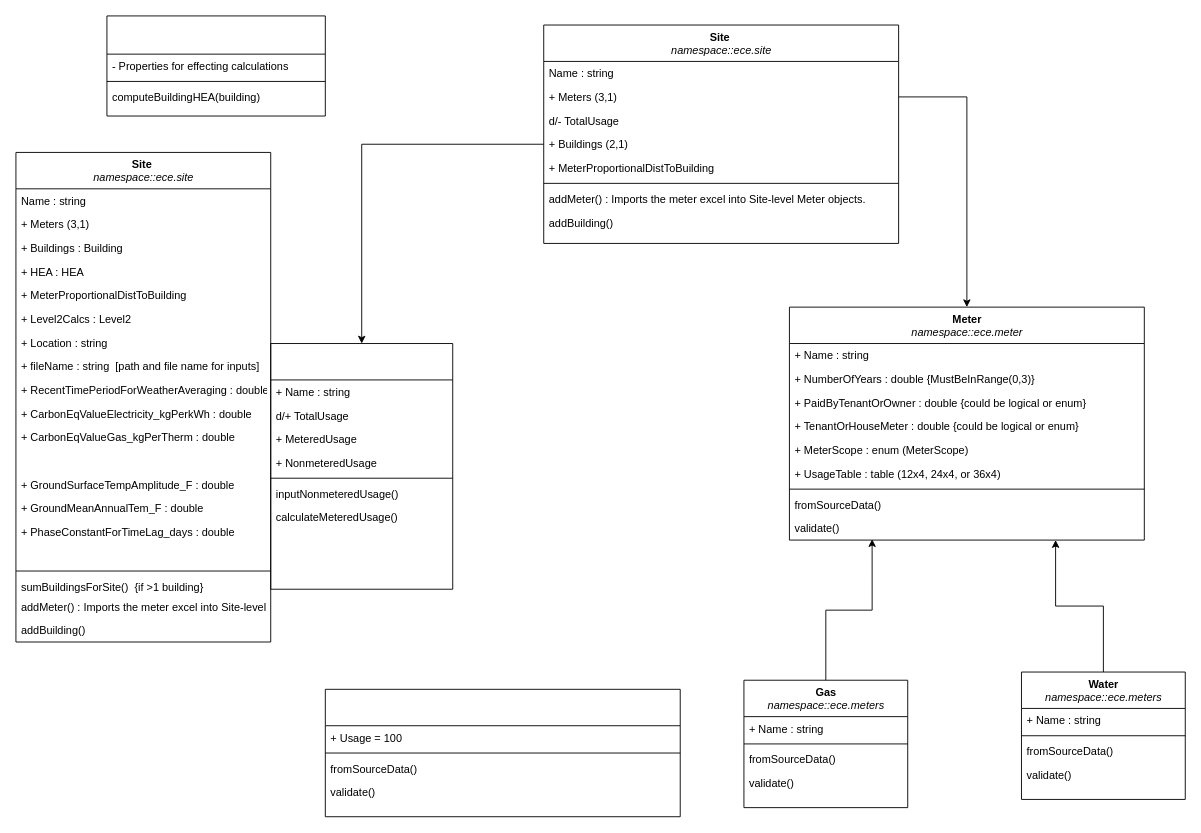
Some shapes in this 1201 by 833 pixel diagram are drawn without their labels. The box of each missing label's shape, as (x1, y1, x2, y2) in pixels:
Building namespace::ece.building: (270, 343, 453, 589)
Electricity namespace::ece.meters: (324, 688, 680, 817)
HEA namespace::ece.HEA: (106, 15, 325, 116)
